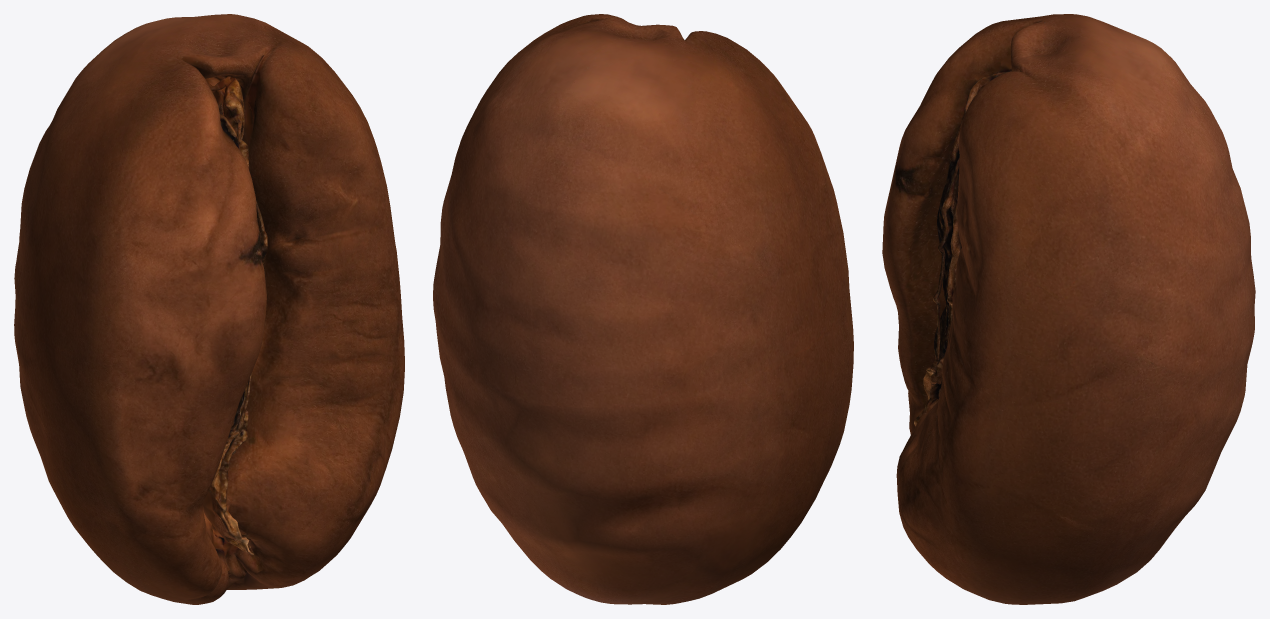
Rendered from bean-opt.glb.
The picture shows the model from 3 angles, left to right: view 1: azimuth 30°, elevation 25°; view 2: azimuth 150°, elevation 25°; view 3: azimuth 270°, elevation 25°; orthographic projection. The views are drawn at different scales.
Visible parts, largest first — view 1: mesh_node; view 2: mesh_node; view 3: mesh_node.
Boxes of the visible parts, x1,y1,x2,y2 form: mesh_node: (14,14,404,604); mesh_node: (433,14,853,604); mesh_node: (882,14,1255,604).
Size of the model in its own units: 1.25 by 1.9 by 1.17.
Materials: 1 (1 with a texture image).
